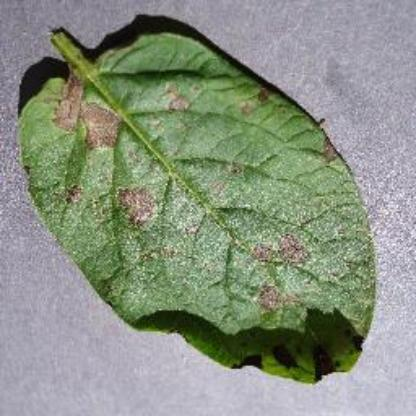Early-Blight: (16, 15, 376, 387)
